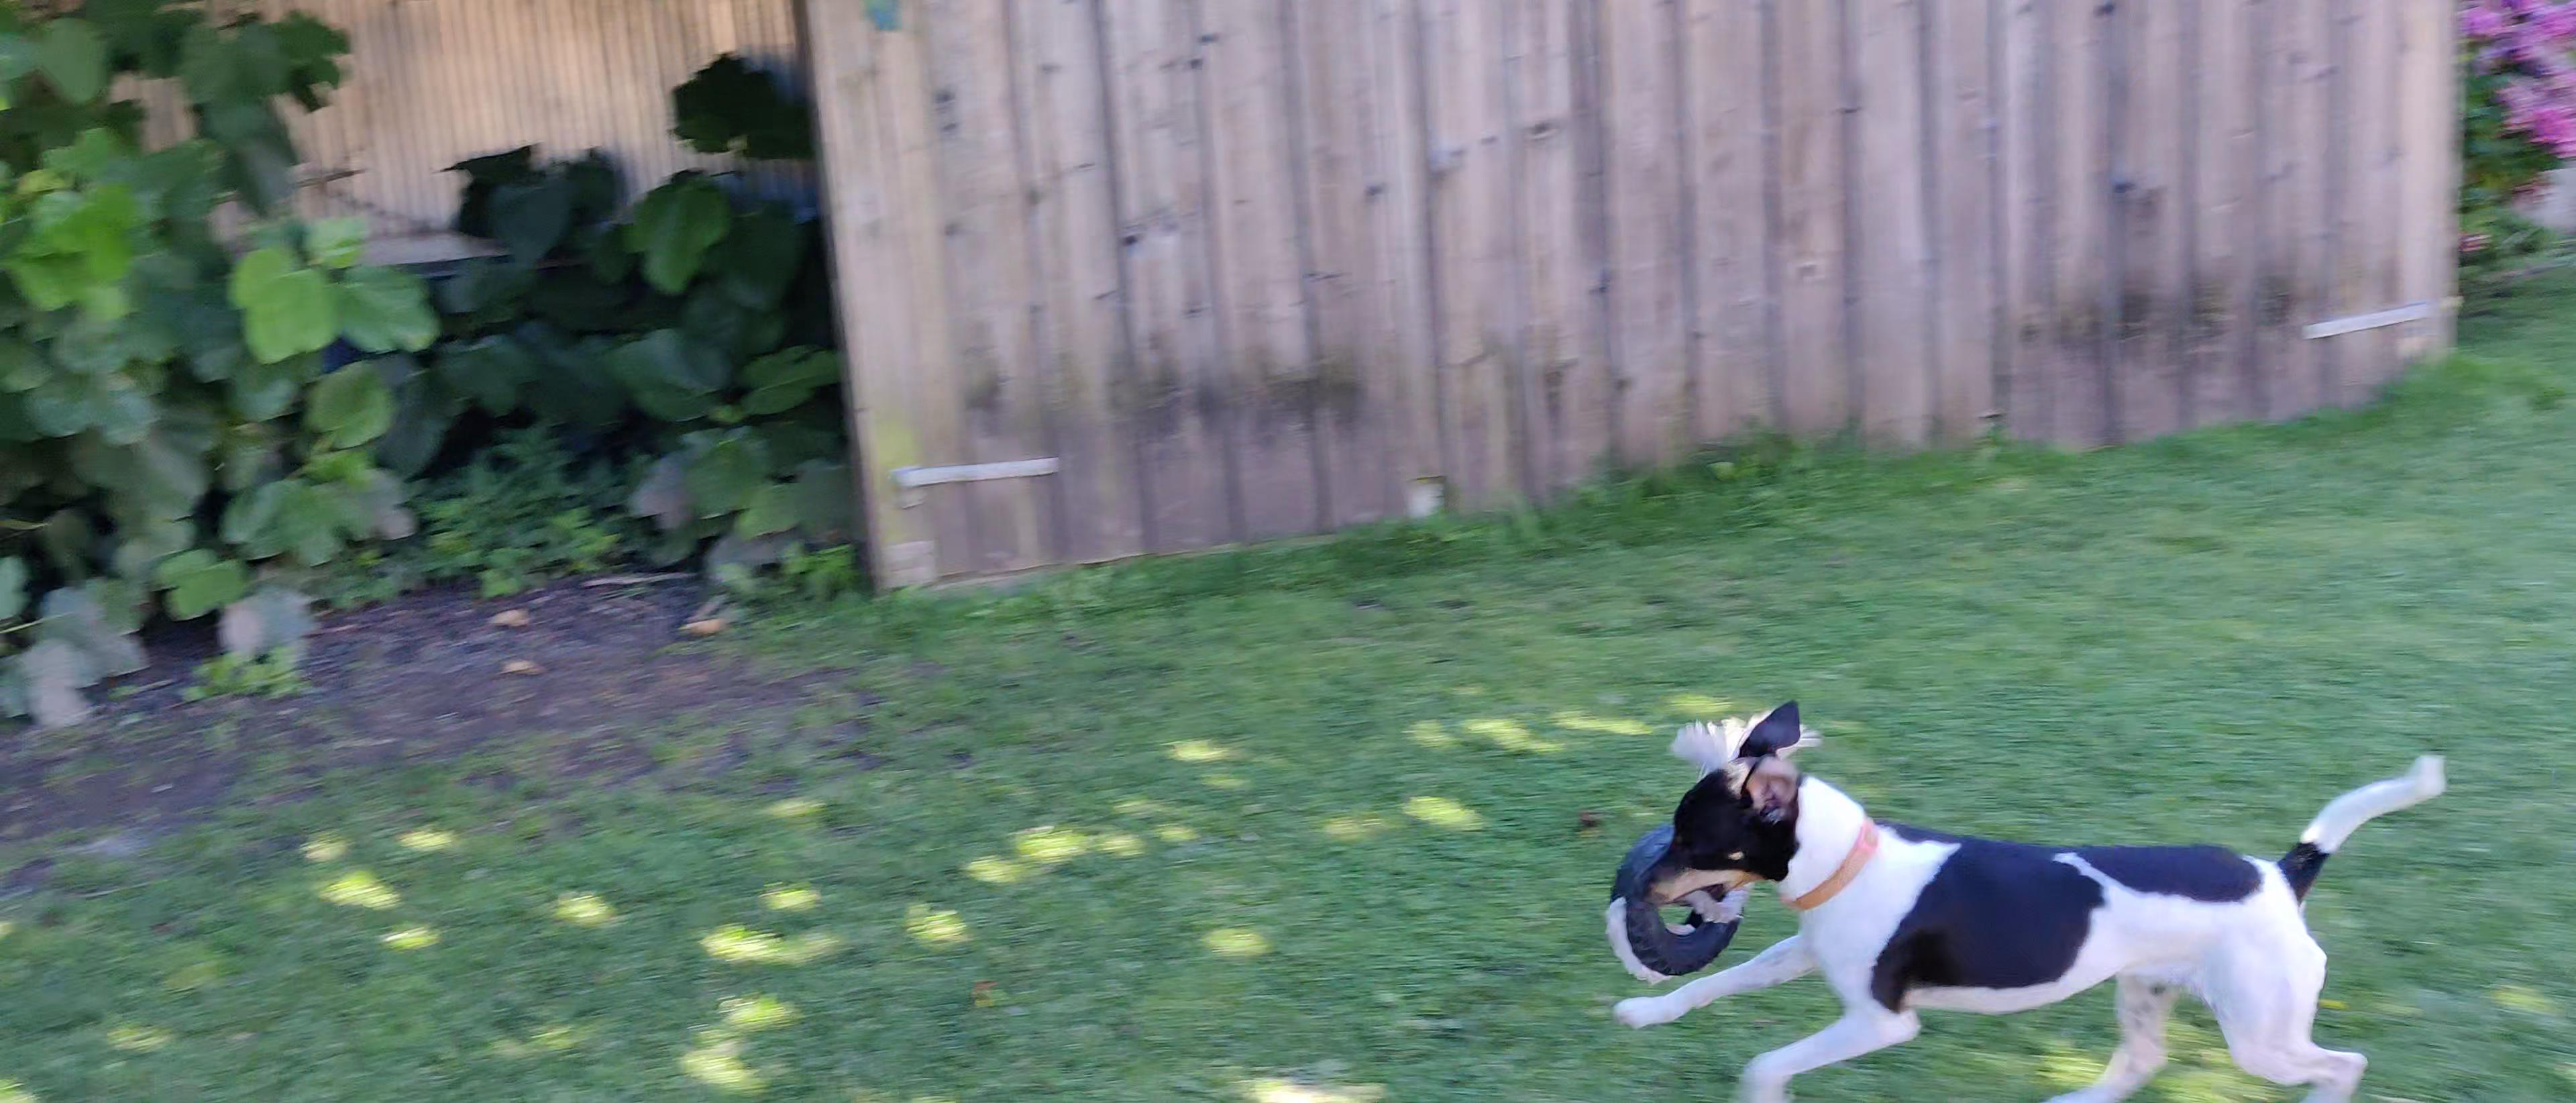Dog: (1598, 697, 2454, 1103)
